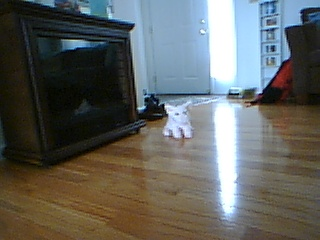piggy: (160, 100, 197, 140)
